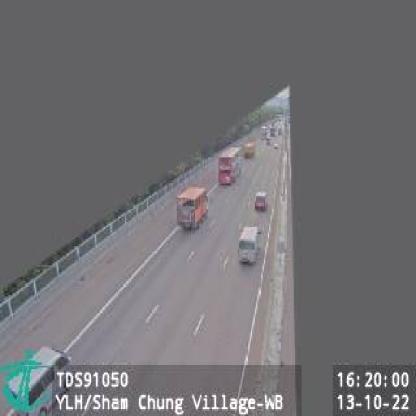Bus: (218, 145, 242, 188)
Car: (7, 344, 73, 416), (238, 226, 262, 265), (254, 191, 269, 213), (243, 140, 256, 158)
Truck: (176, 187, 210, 233)
